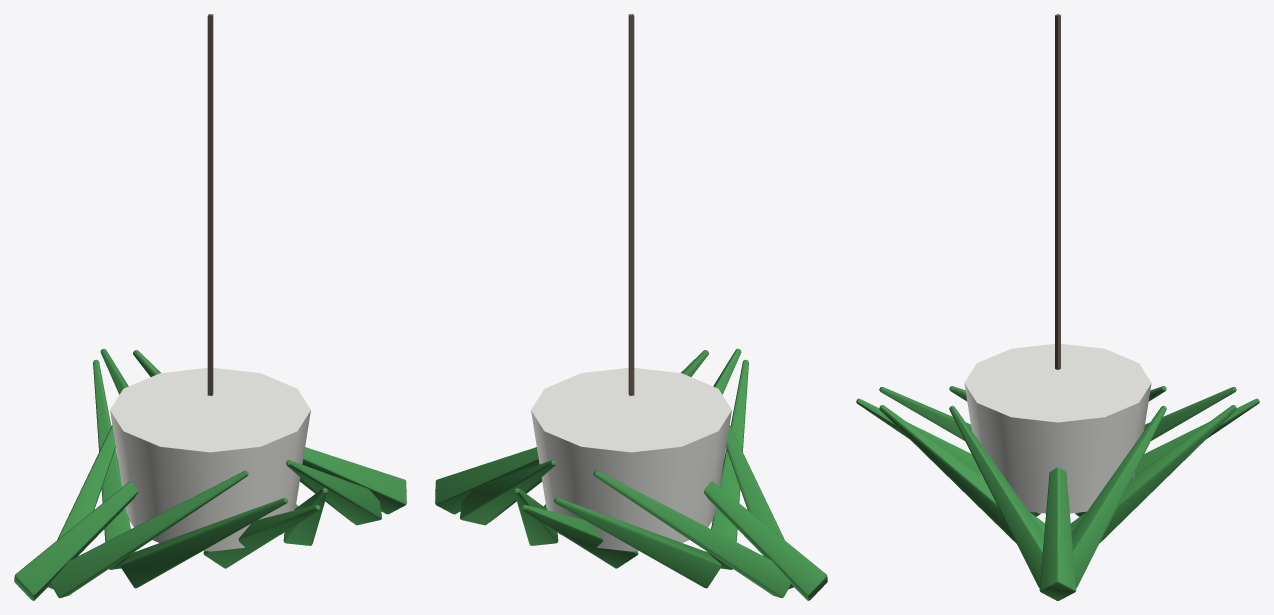
Rendered from HangGarden.fbx.
3 renders of one model, left to right at view 1: azimuth 30°, elevation 25°; view 2: azimuth 150°, elevation 25°; view 3: azimuth 270°, elevation 25°, orthographic. The views are drawn at different scales.
Visible parts, largest first — view 1: HangGarden; view 2: HangGarden; view 3: HangGarden.
Boxes of the visible parts, x1,y1,x2,y2 form: HangGarden: (14, 14, 406, 600); HangGarden: (435, 14, 827, 600); HangGarden: (856, 14, 1259, 600).
Bounding box in the file's own units: 538 × 716 × 517.
